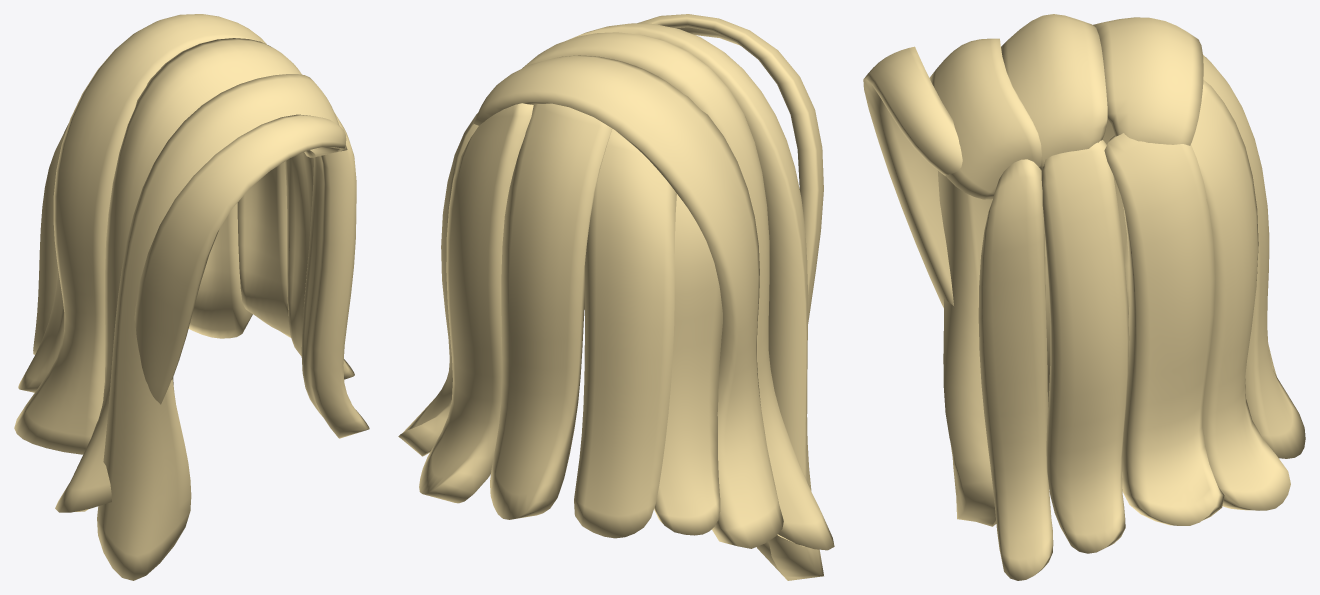
Rendered from hiar4.fbx.
3 renders of one model, left to right at view 1: azimuth 30°, elevation 25°; view 2: azimuth 150°, elevation 25°; view 3: azimuth 270°, elevation 25°, orthographic. The views are drawn at different scales.
Visible parts, largest first — view 1: KW_HairBand04; view 2: KW_HairBand04; view 3: KW_HairBand04.
Boxes of the visible parts, bbox=[...] form: KW_HairBand04: bbox=[14, 14, 369, 580]; KW_HairBand04: bbox=[398, 14, 834, 580]; KW_HairBand04: bbox=[863, 14, 1305, 580].
Bounding box in the file's own units: 68.32 × 96.8 × 69.03.
